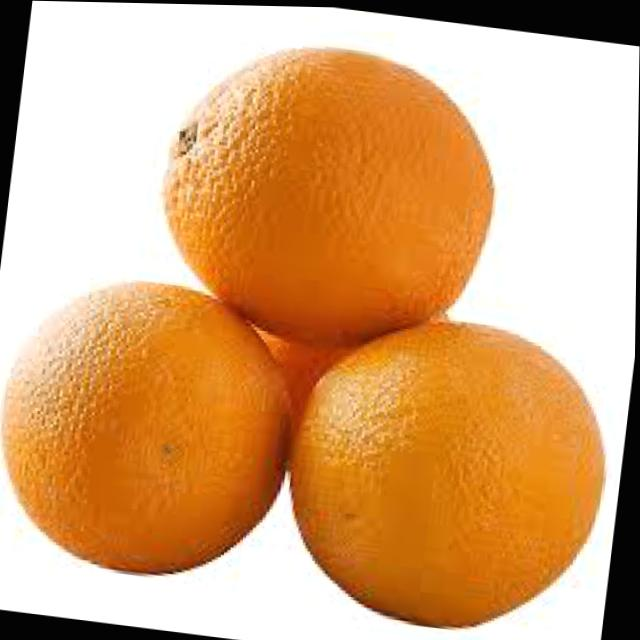orange: (144, 18, 518, 370), (282, 300, 622, 640), (0, 262, 303, 590)
